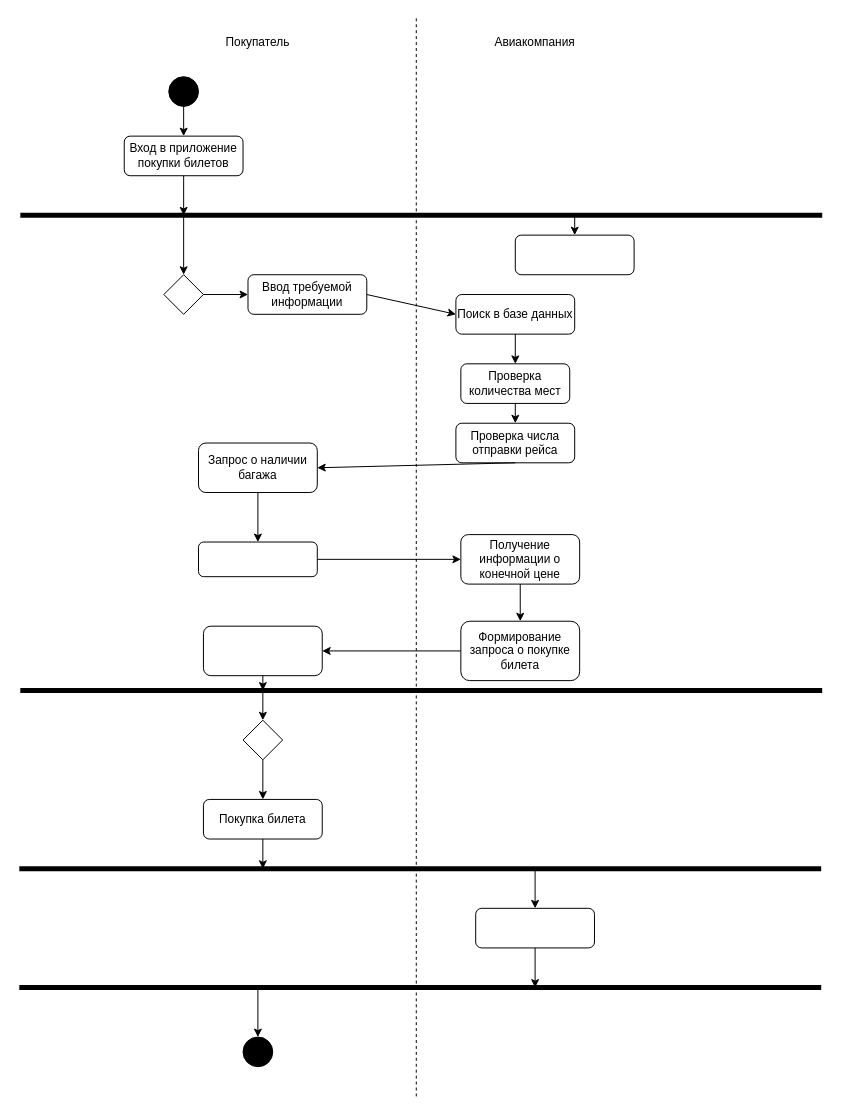
Some shapes in this 842 by 1115 pixel diagram are drawn without their labels. The centre of each missing label's shape, as x and y in pixels:
"Ввод" belongs at (x=257, y=559).
"Выполнение запроса" belongs at (x=534, y=927).
"перенаправление в окно оплаты" belongs at (x=262, y=650).
"Подготовка к приёму запроса" belongs at (x=574, y=254).
